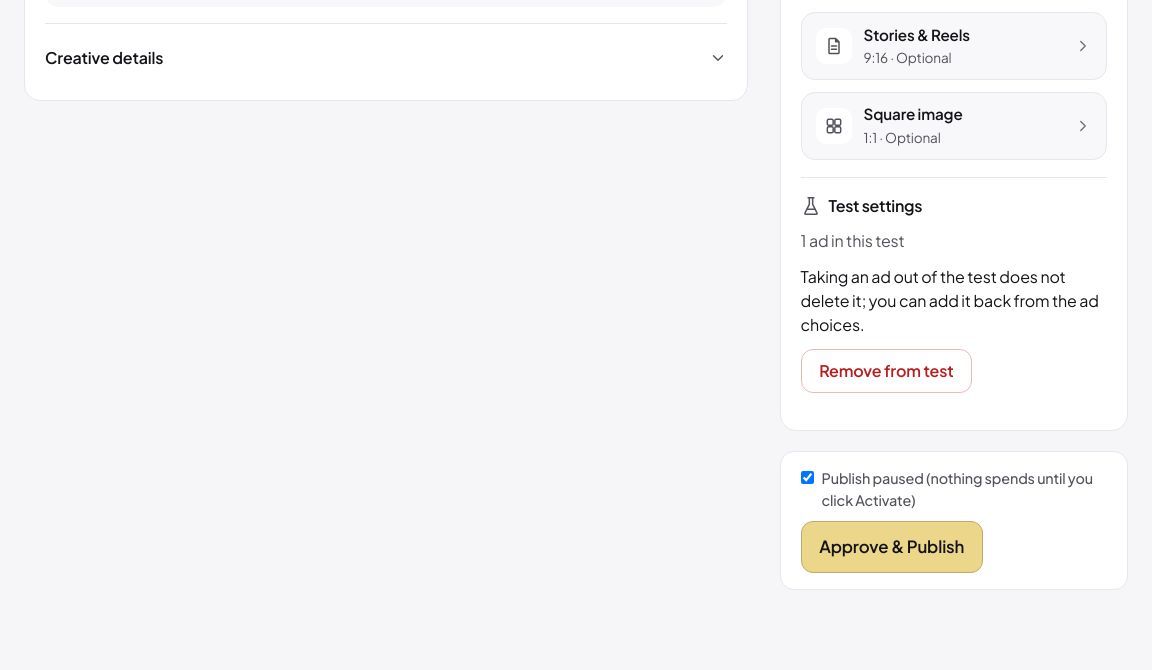
Test: AdPreviewPage › the preview workspace › says plainly that publishing live can spend, once paused is turned off
The width and height of the screenshot is (1152, 670).
(page scrolled)
Click the checkbox labelled "Publish paused (nothing spends until you click Activate)". click: (807, 478)
box: [801,471,814,484]
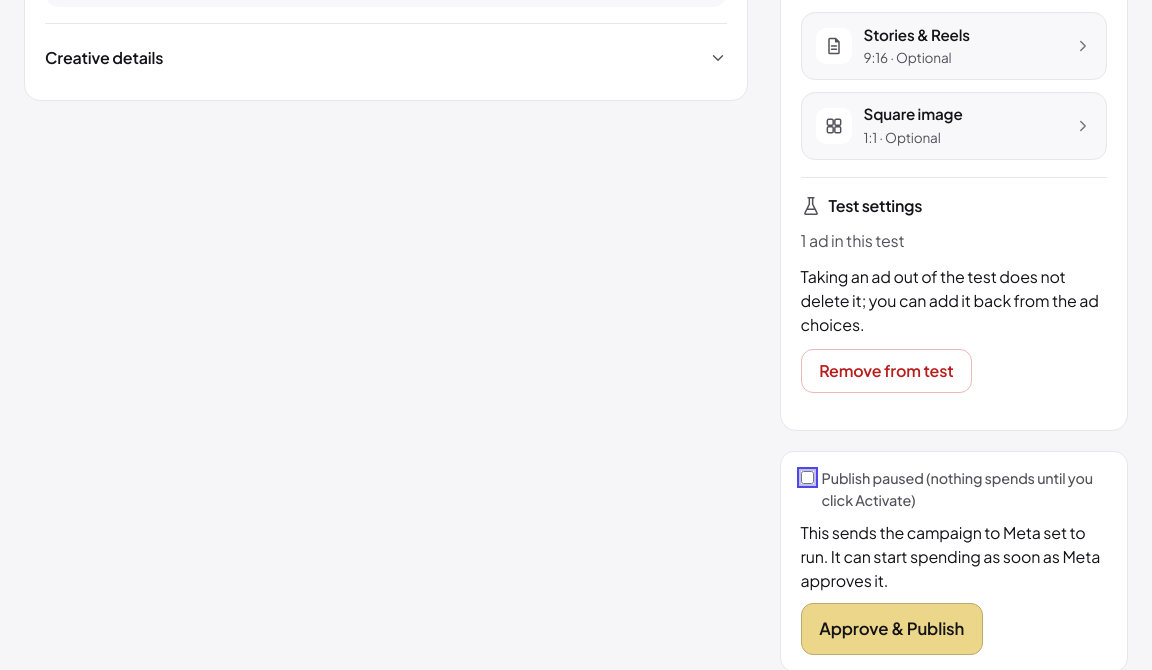
Check: the text "can start spending as soon as Meta approves it" is shown, box [801,522,1100,591]
